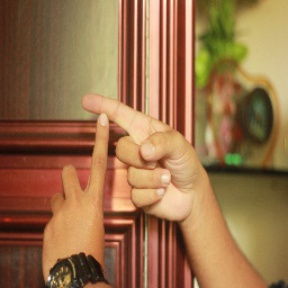T: (44, 81, 180, 225)
